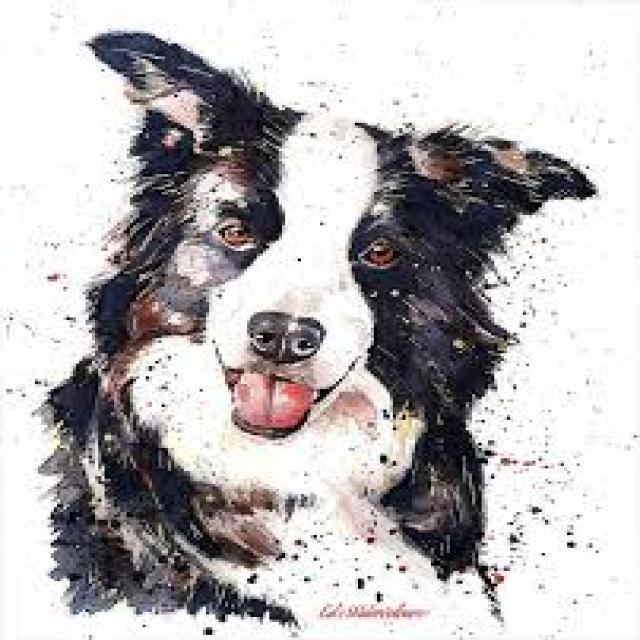BORDER_COLLIE: (38, 18, 612, 640)
